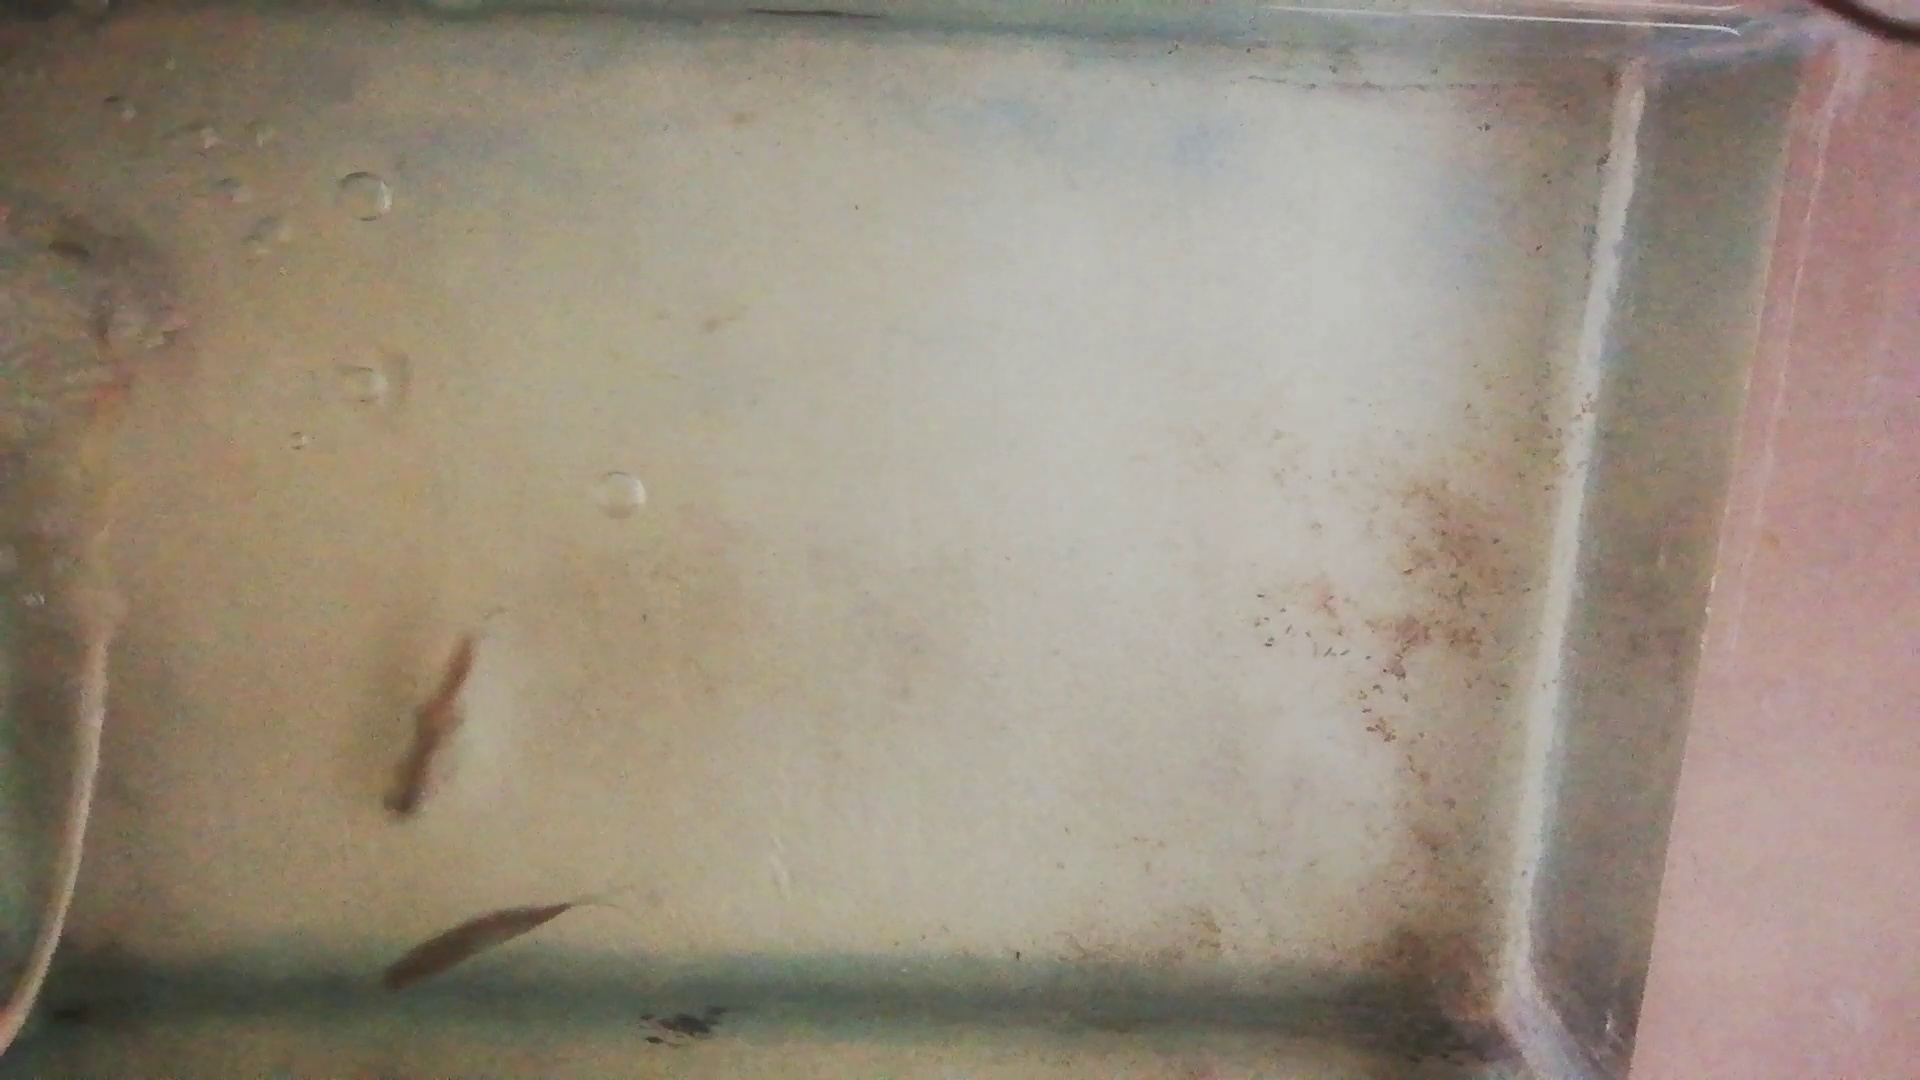fish: (381, 636, 477, 823), (382, 903, 568, 989)
